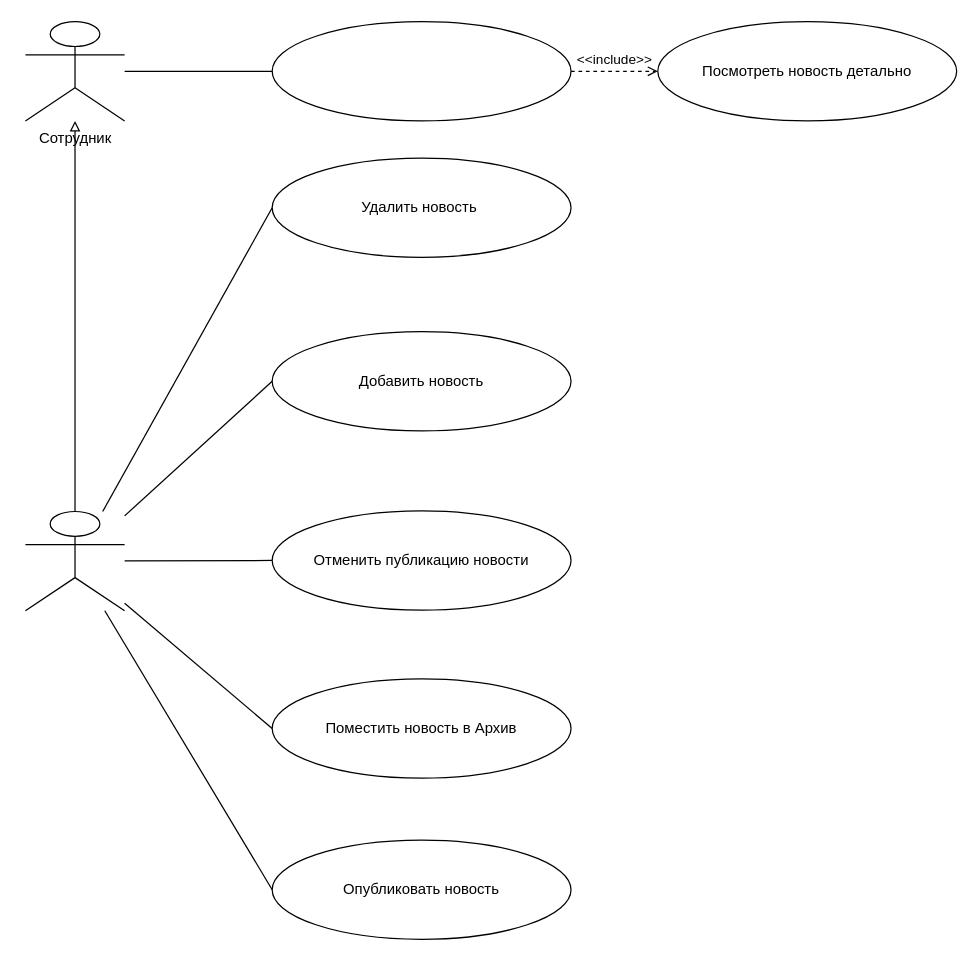
This 978x961 diagram has some shape labels left out. The shapes that lost their labels are listed below. From the top down, each one's centre as x and y in pixels, then its label:
At pixel 421 70: "Просмотреть список новостей".
At pixel 74 560: "Администратор".
